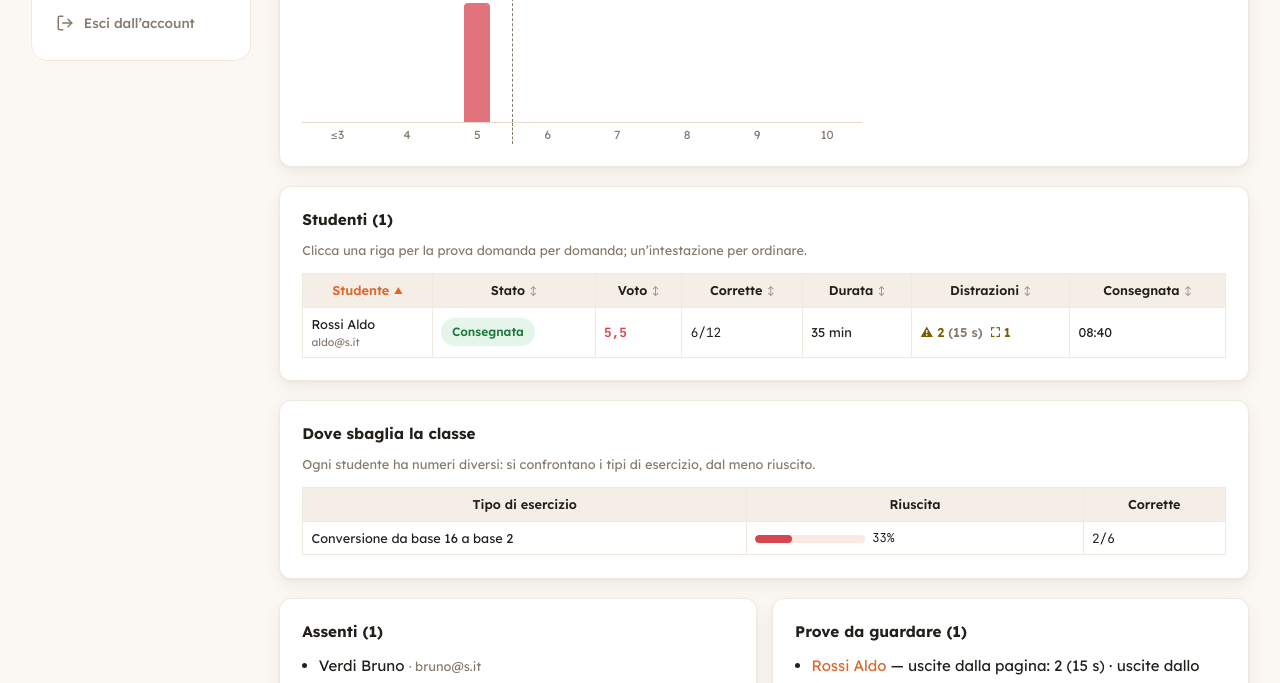
Test: console docente — Storico › apre la prova con risposte, distrazioni e interventi
(page scrolled)
Click the button with aria-label "Apri la prova di Rossi Aldo": (764, 332) [303,307,1225,357]
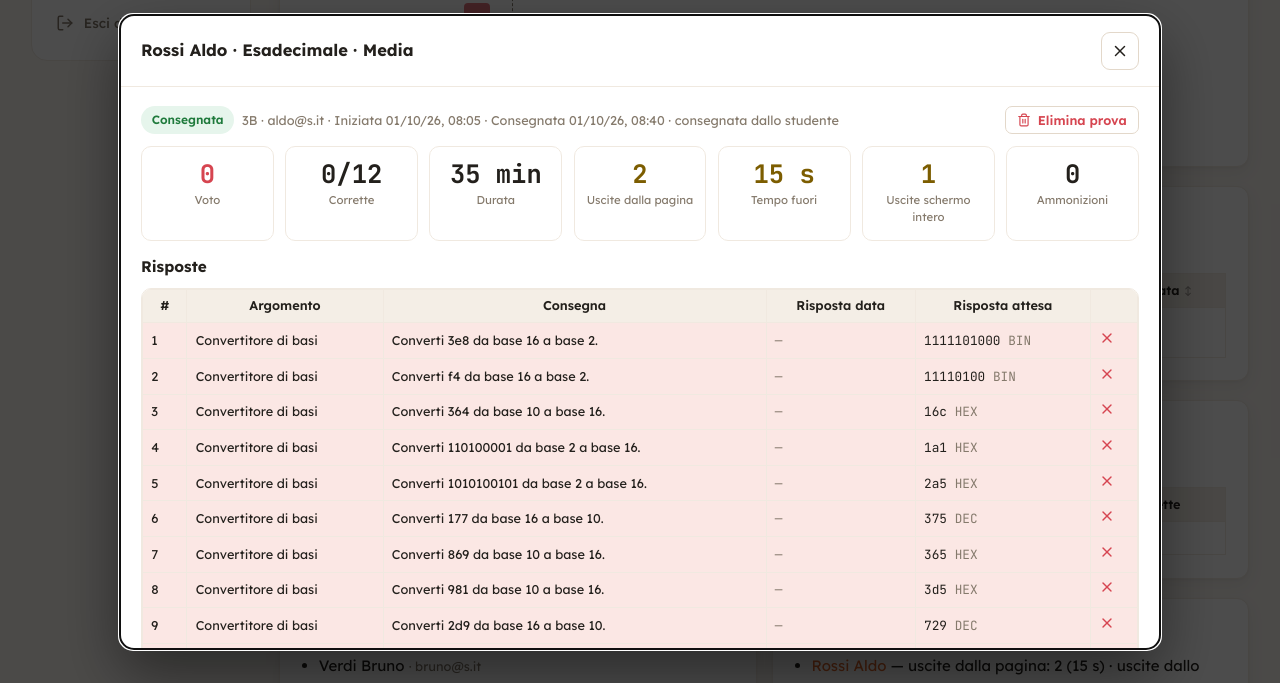
Expected: the button "Elimina prova" is shown, [1005,106,1139,134]
